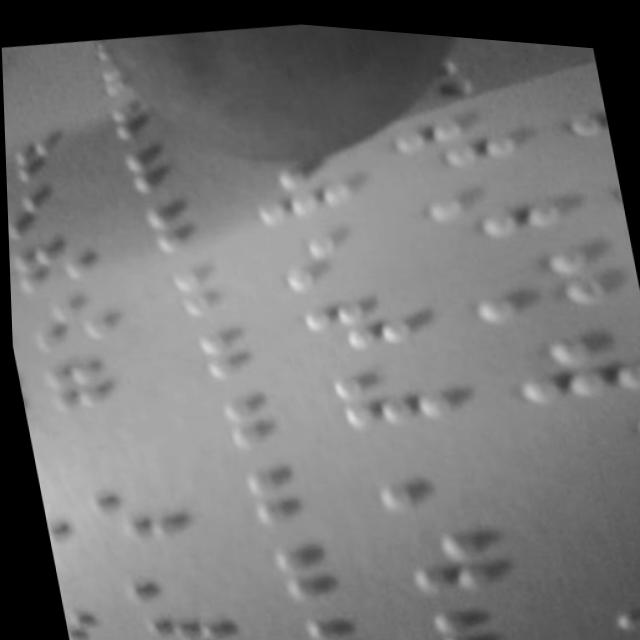braiile: (446, 215, 613, 328), (410, 146, 580, 252), (387, 498, 542, 600), (381, 84, 541, 179), (504, 303, 640, 410), (266, 204, 414, 300), (241, 134, 384, 233), (317, 342, 462, 439), (289, 270, 432, 366), (359, 426, 498, 516), (72, 471, 201, 554), (407, 573, 552, 640), (31, 344, 148, 424), (19, 282, 129, 360), (109, 539, 224, 610), (7, 232, 111, 302), (5, 180, 90, 243), (125, 597, 249, 640)
